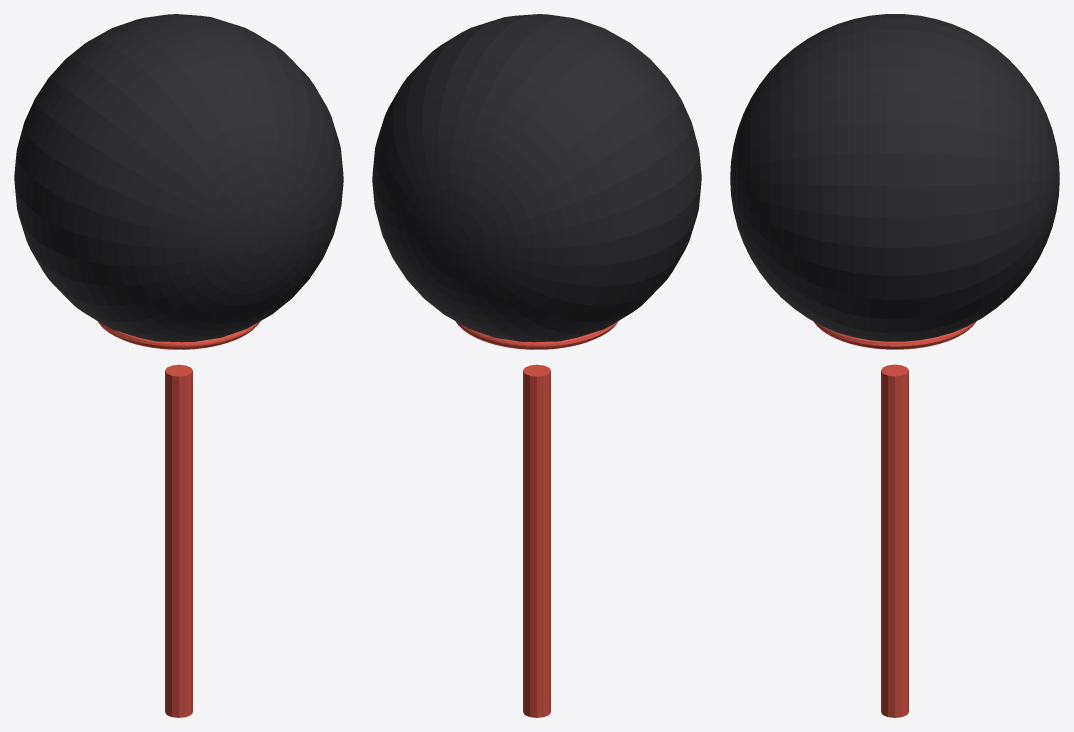
The model's file is powerup_laser_focus.glb.
The picture shows the model from 3 angles, left to right: view 1: azimuth 30°, elevation 25°; view 2: azimuth 150°, elevation 25°; view 3: azimuth 270°, elevation 25°; orthographic projection.
Visible parts, largest first — view 1: orb, beam, lens; view 2: orb, beam, lens; view 3: orb, beam, lens.
Boxes of the visible parts, x1,y1,x2,y2 form: orb: (14, 14, 343, 342); beam: (165, 364, 192, 717); lens: (98, 321, 260, 349); orb: (372, 14, 701, 342); beam: (523, 364, 550, 717); lens: (455, 321, 617, 349); orb: (730, 14, 1059, 341); beam: (881, 364, 908, 717); lens: (814, 322, 975, 349).
Bounding box in the file's own units: 0.6991 × 1.6 × 0.7.
